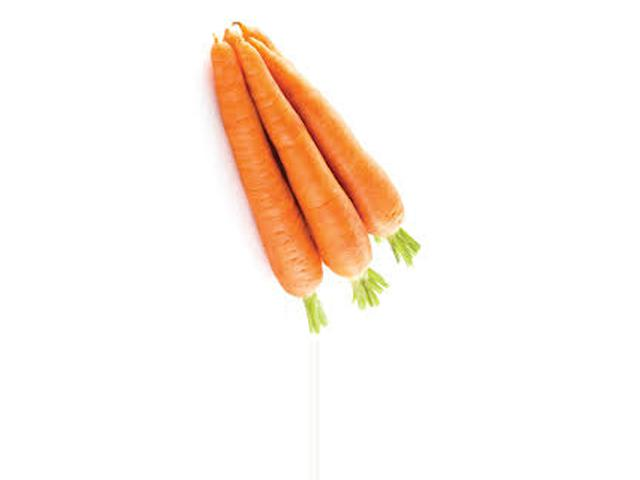carrot: (212, 44, 329, 288)
